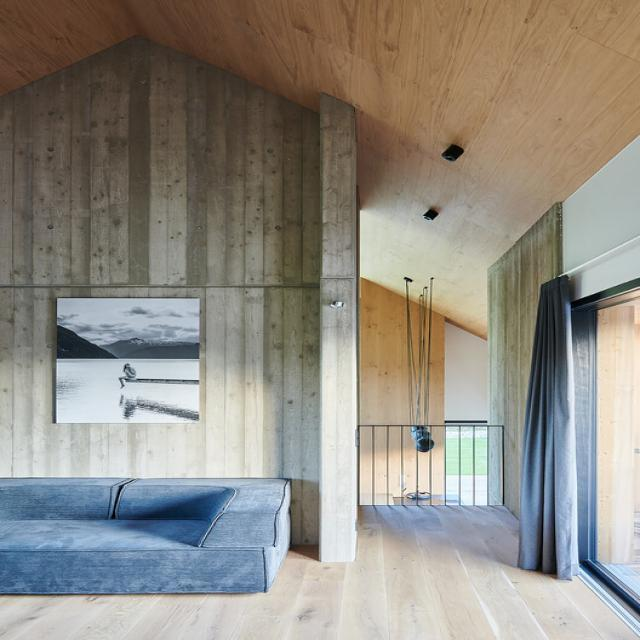couch: (0, 477, 291, 594)
